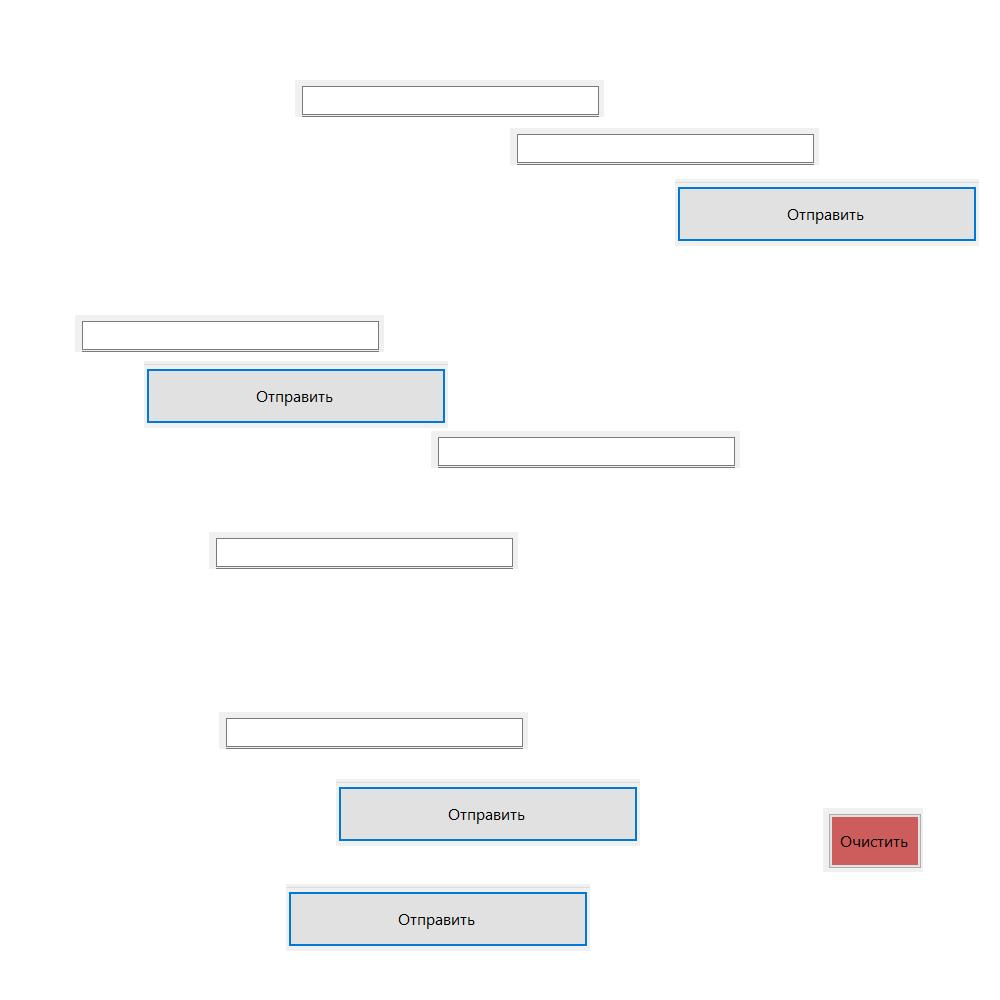Button: (336, 779, 640, 846), (286, 884, 590, 951), (675, 179, 979, 246), (144, 361, 448, 428), (823, 808, 923, 872)
EditText-: (431, 431, 740, 468), (295, 80, 604, 117), (209, 532, 518, 569), (510, 128, 819, 165), (75, 315, 384, 352), (219, 712, 528, 749)
